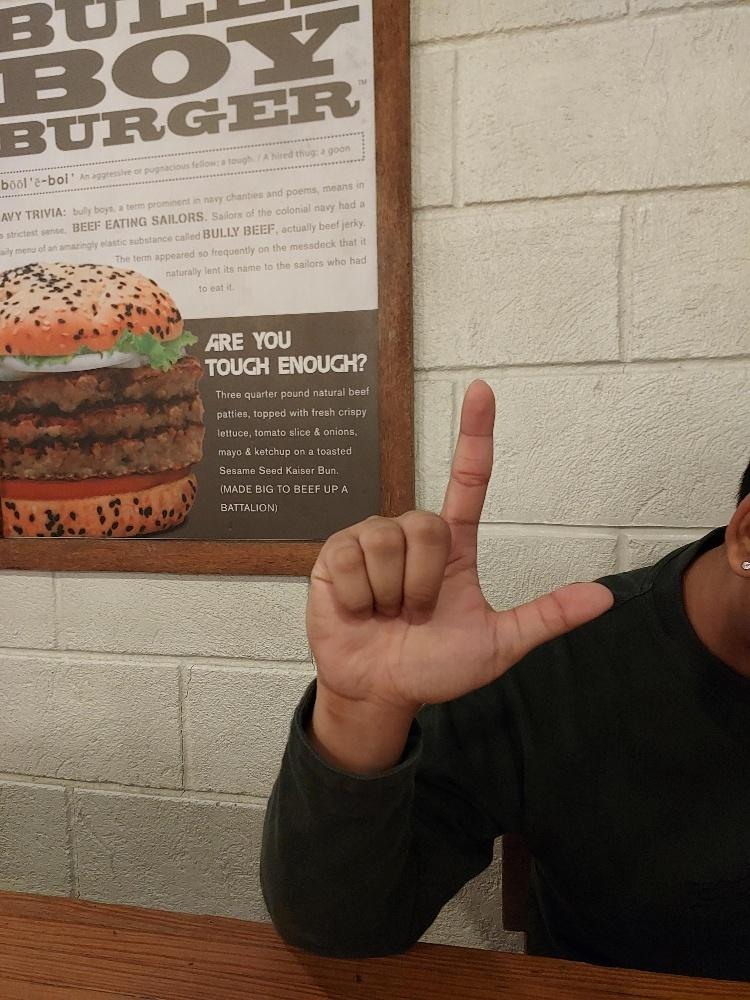l: (302, 376, 615, 705)
